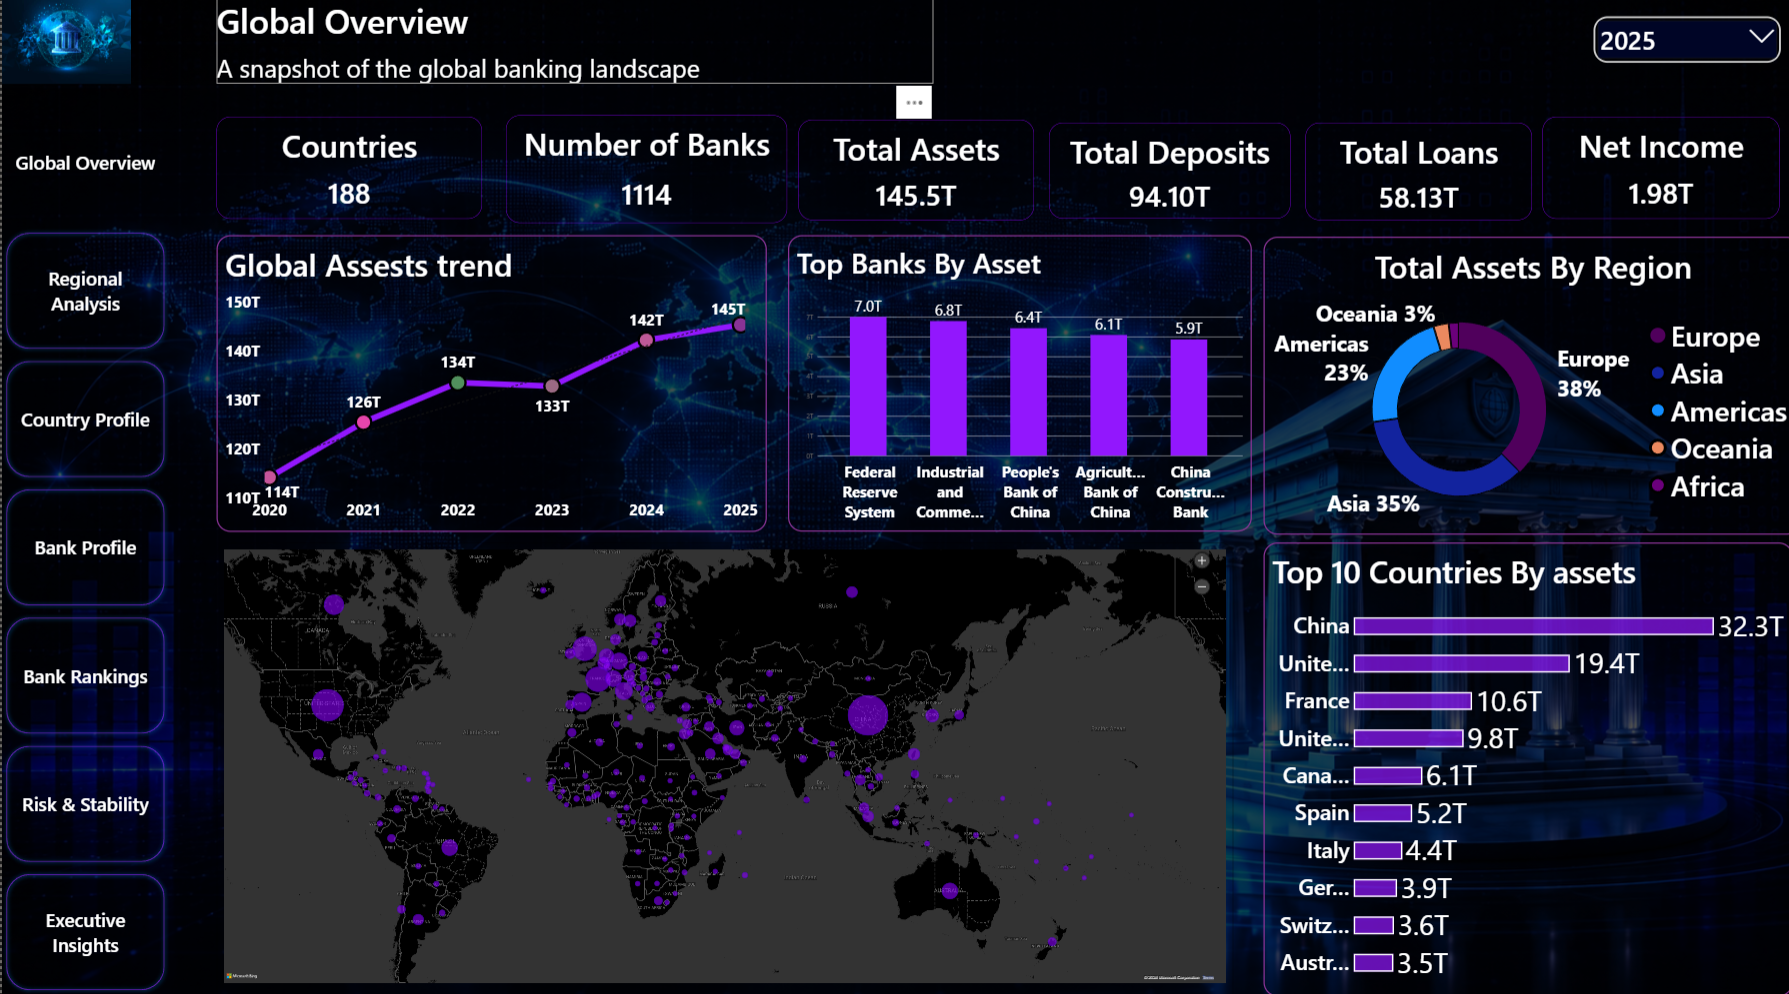

Layout of this report page (visuals, bound fields, positions):
{"tool":"powerbi","page":{"name":"Global Overview","canvas":[3840,2160],"ordinal":0},"visuals":[{"type":"textbox","box":[456.5,0,1533.3,186.7],"z":2000},{"type":"card","title":"Total Assets","fields":{"Values":["Sum(public gbip_bank_analysis.total_assets)"]},"box":[1700.1,262.5,502.7,214.5],"z":3000},{"type":"card","title":"Total Deposits","fields":{"Values":["Sum(public gbip_bank_analysis.total_deposits)"]},"box":[2234.7,268.9,515.5,204.9],"z":4000},{"type":"card","title":"Total Loans","fields":{"Values":["Sum(public gbip_bank_analysis.total_loans)"]},"box":[2782.2,268.9,483.4,208.1],"z":5000},{"type":"card","title":"Net Income","fields":{"Values":["Sum(public gbip_bank_analysis.net_income)"]},"box":[3288.1,256.1,505.9,217.7],"z":6000},{"type":"card","title":"Number of Banks","fields":{"Values":["CountNonNull(DimBank.bank_id)"]},"box":[1076.7,253.3,600,230],"z":7000},{"type":"donutChart","title":"Total Assets By Region","fields":{"Category":["public gbip_bank_analysis.region_name"],"Y":["Sum(public gbip_bank_analysis.total_assets)"]},"box":[2691.6,510.8,1146.7,636.7],"z":8000},{"type":"lineChart","title":"Global Assests trend","fields":{"Category":["public gbip_bank_analysis.fiscal_year"],"Y":["Sum(public gbip_bank_analysis.total_assets)"]},"box":[457.8,509.1,1175,633.9],"z":9000},{"type":"slicer","fields":{"Values":["public gbip_bank_analysis.fiscal_year"]},"box":[3396.9,41.6,400.2,99.3],"z":10000},{"type":"clusteredBarChart","title":"Top 10 Countries By assets","fields":{"Category":["public gbip_bank_analysis.country_name"],"Y":["Sum(public gbip_bank_analysis.total_assets)"]},"box":[2692.6,1165.4,1130.2,970.1],"z":11000},{"type":"map","title":"Global Banking Map","fields":{"Category":["public gbip_bank_analysis.iso3_code"],"Size":["Sum(public gbip_bank_analysis.total_assets)"]},"box":[457.8,1165.4,2170.7,995.7],"z":12000},{"type":"card","title":"Countries ","fields":{"Values":["Count(DimCountry.country_name)"]},"box":[457.8,256.1,566.7,217.7],"z":13000},{"type":"clusteredColumnChart","title":"Top Banks By Asset","fields":{"Category":["DimBank.bank_name"],"Y":["Bank_count.Bank Total Assets"]},"box":[1676.7,510,990,633.3],"z":14000},{"type":"pageNavigator","box":[0,220.9,356.7,1913.3],"z":15000},{"type":"image","box":[0,0,275.3,188.4],"z":15001}]}

Visuals, with their boxes on the page's 3840x2160 design canvas (x1, y1, x2, y2). These are canvas units, not pixel positions in the 1789x994 screenshot, which may show the page scaled, cropped or inside an application window:
textbox: 456 0 1990 187
"Total Assets" card: 1700 262 2203 477
"Total Deposits" card: 2235 269 2750 474
"Total Loans" card: 2782 269 3266 477
"Net Income" card: 3288 256 3794 474
"Number of Banks" card: 1077 253 1677 483
"Total Assets By Region" donutChart: 2692 511 3838 1148
"Global Assests trend" lineChart: 458 509 1633 1143
slicer - public gbip_bank_analysis.fiscal_year: 3397 42 3797 141
"Top 10 Countries By assets" clusteredBarChart: 2693 1165 3823 2136
"Global Banking Map" map: 458 1165 2628 2161
"Countries " card: 458 256 1024 474
"Top Banks By Asset" clusteredColumnChart: 1677 510 2667 1143
pageNavigator: 0 221 357 2134
image: 0 0 275 188
